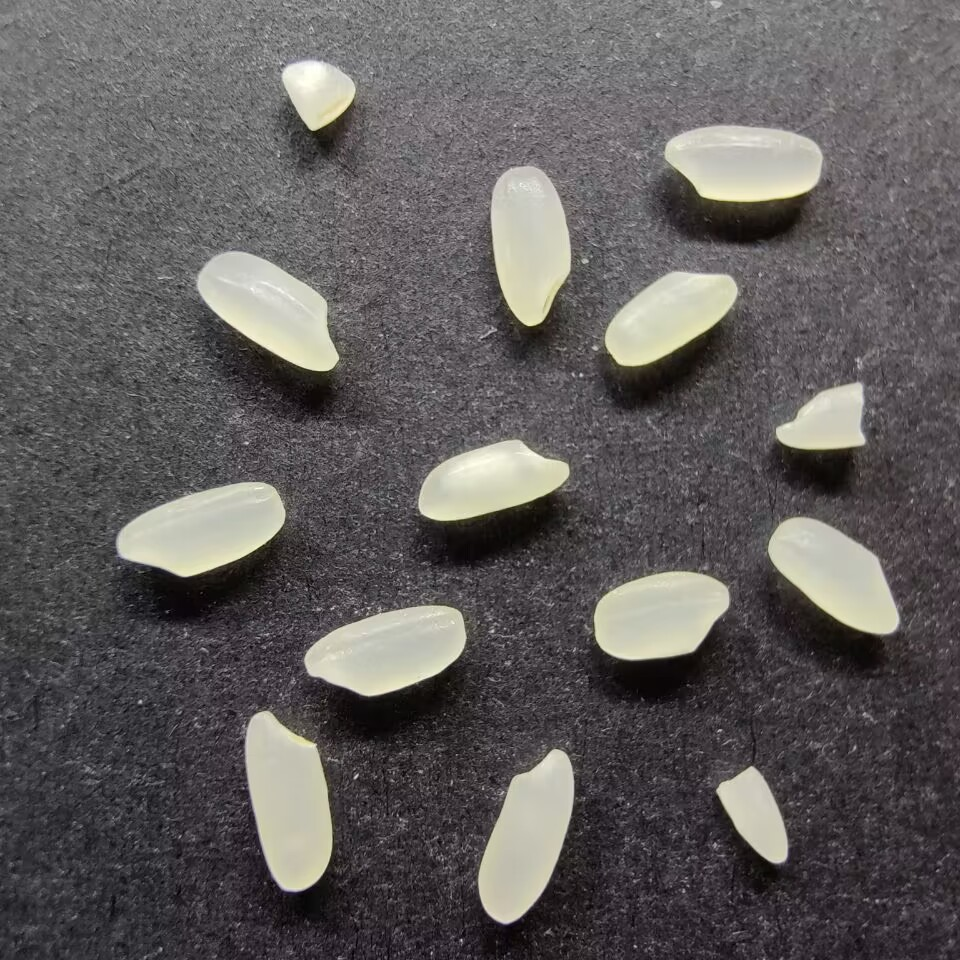broken: (715, 764, 790, 865), (772, 379, 868, 451), (278, 59, 358, 133)
rice: (195, 251, 340, 372), (480, 746, 577, 925), (113, 480, 287, 578), (244, 706, 333, 894), (767, 516, 902, 637), (302, 603, 466, 697), (488, 164, 573, 327), (603, 268, 740, 367), (415, 438, 572, 523), (662, 122, 824, 203), (592, 570, 732, 660)
